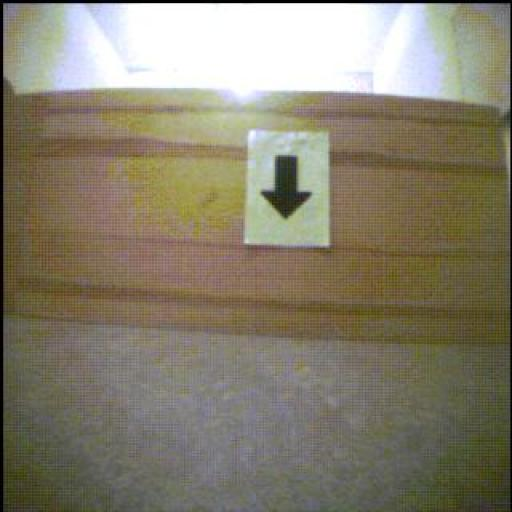Arrow: (262, 156, 313, 219)
